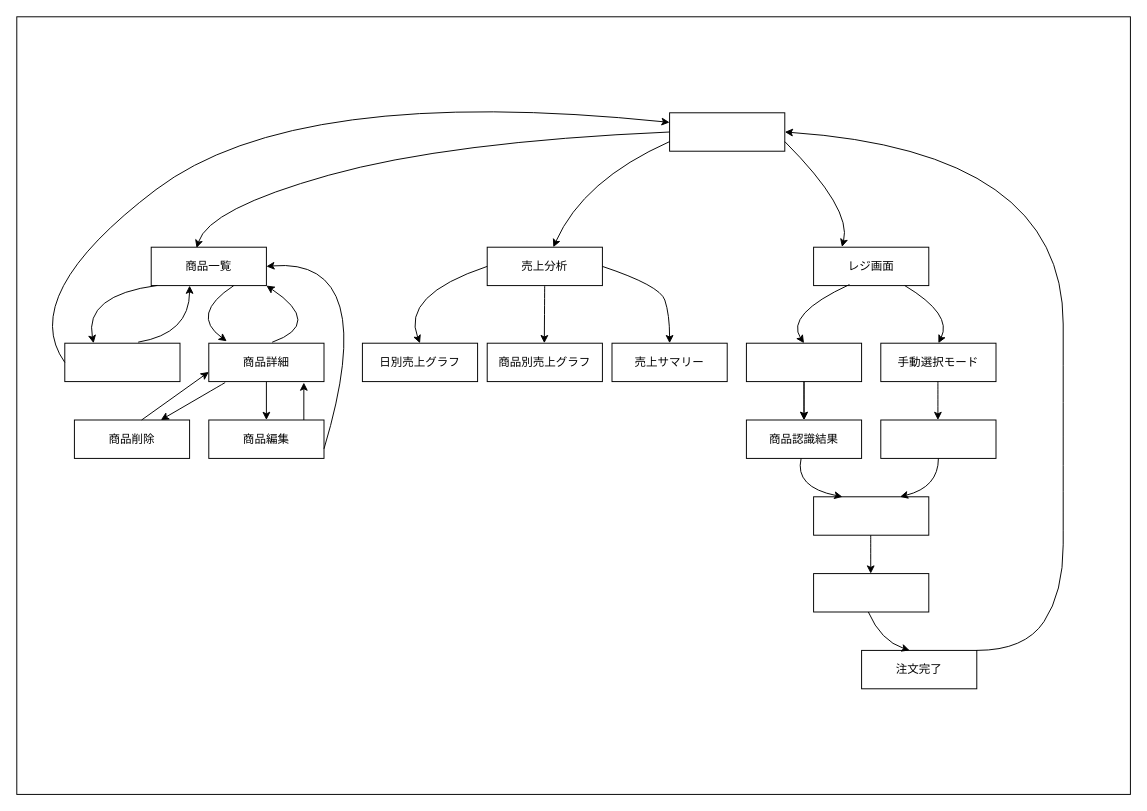
Some shapes in this 1147 by 811 pixel diagram are drawn without their labels. Here are the shapes that lost their labels. From the top down, the centre of each, then its label:
At (x=727, y=131): "トップページ".
At (x=122, y=362): "商品登録".
At (x=803, y=362): "カメラ認識モード".
At (x=938, y=438): "商品選択".
At (x=871, y=515): "カート".
At (x=871, y=592): "注文確定".
